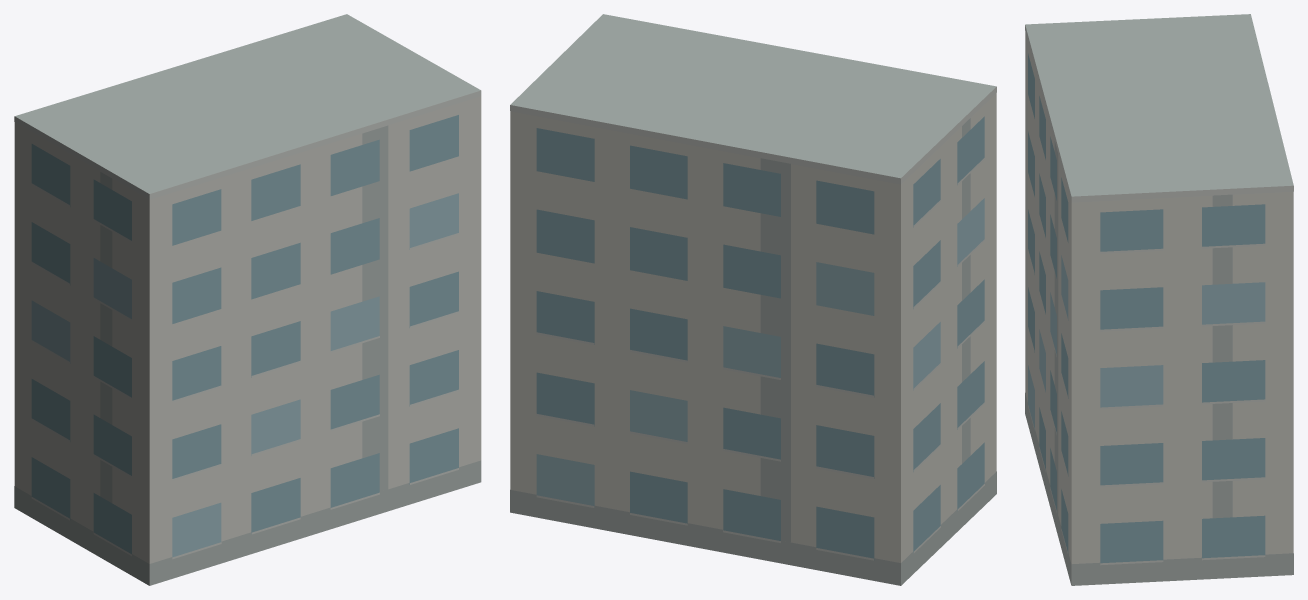
File: survey-upis-32890047.glb
The picture shows the model from 3 angles, left to right: view 1: azimuth 30°, elevation 25°; view 2: azimuth 150°, elevation 25°; view 3: azimuth 270°, elevation 25°; orthographic projection. The views are drawn at different scales.
Visible parts, largest first — view 1: survey-upis-32890047.tmp; view 2: survey-upis-32890047.tmp; view 3: survey-upis-32890047.tmp.
Part boxes in pixels (box(x1,y1,x2,y2)): survey-upis-32890047.tmp: box(14, 14, 481, 585); survey-upis-32890047.tmp: box(510, 14, 996, 585); survey-upis-32890047.tmp: box(1025, 14, 1293, 585).
Bounding box in the file's own units: 16.2 × 16.1 × 10.08.
